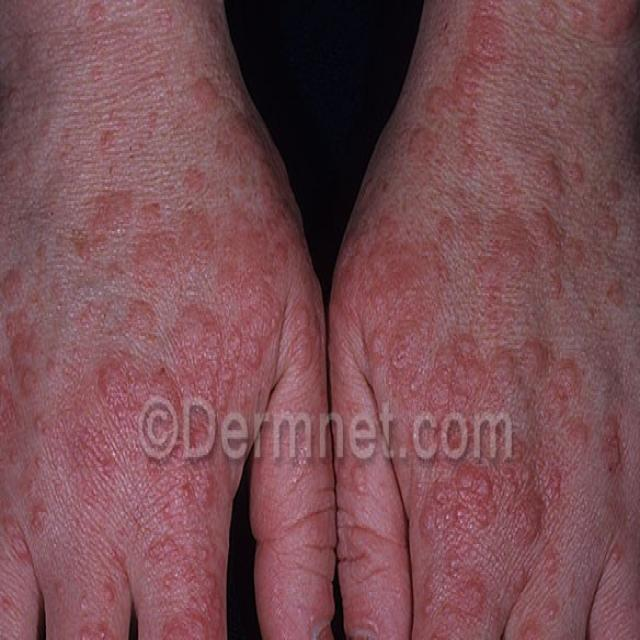Viral Infections: (424, 4, 640, 397), (71, 156, 319, 385), (418, 467, 584, 640), (123, 464, 229, 640), (0, 199, 56, 528), (337, 189, 418, 400)
